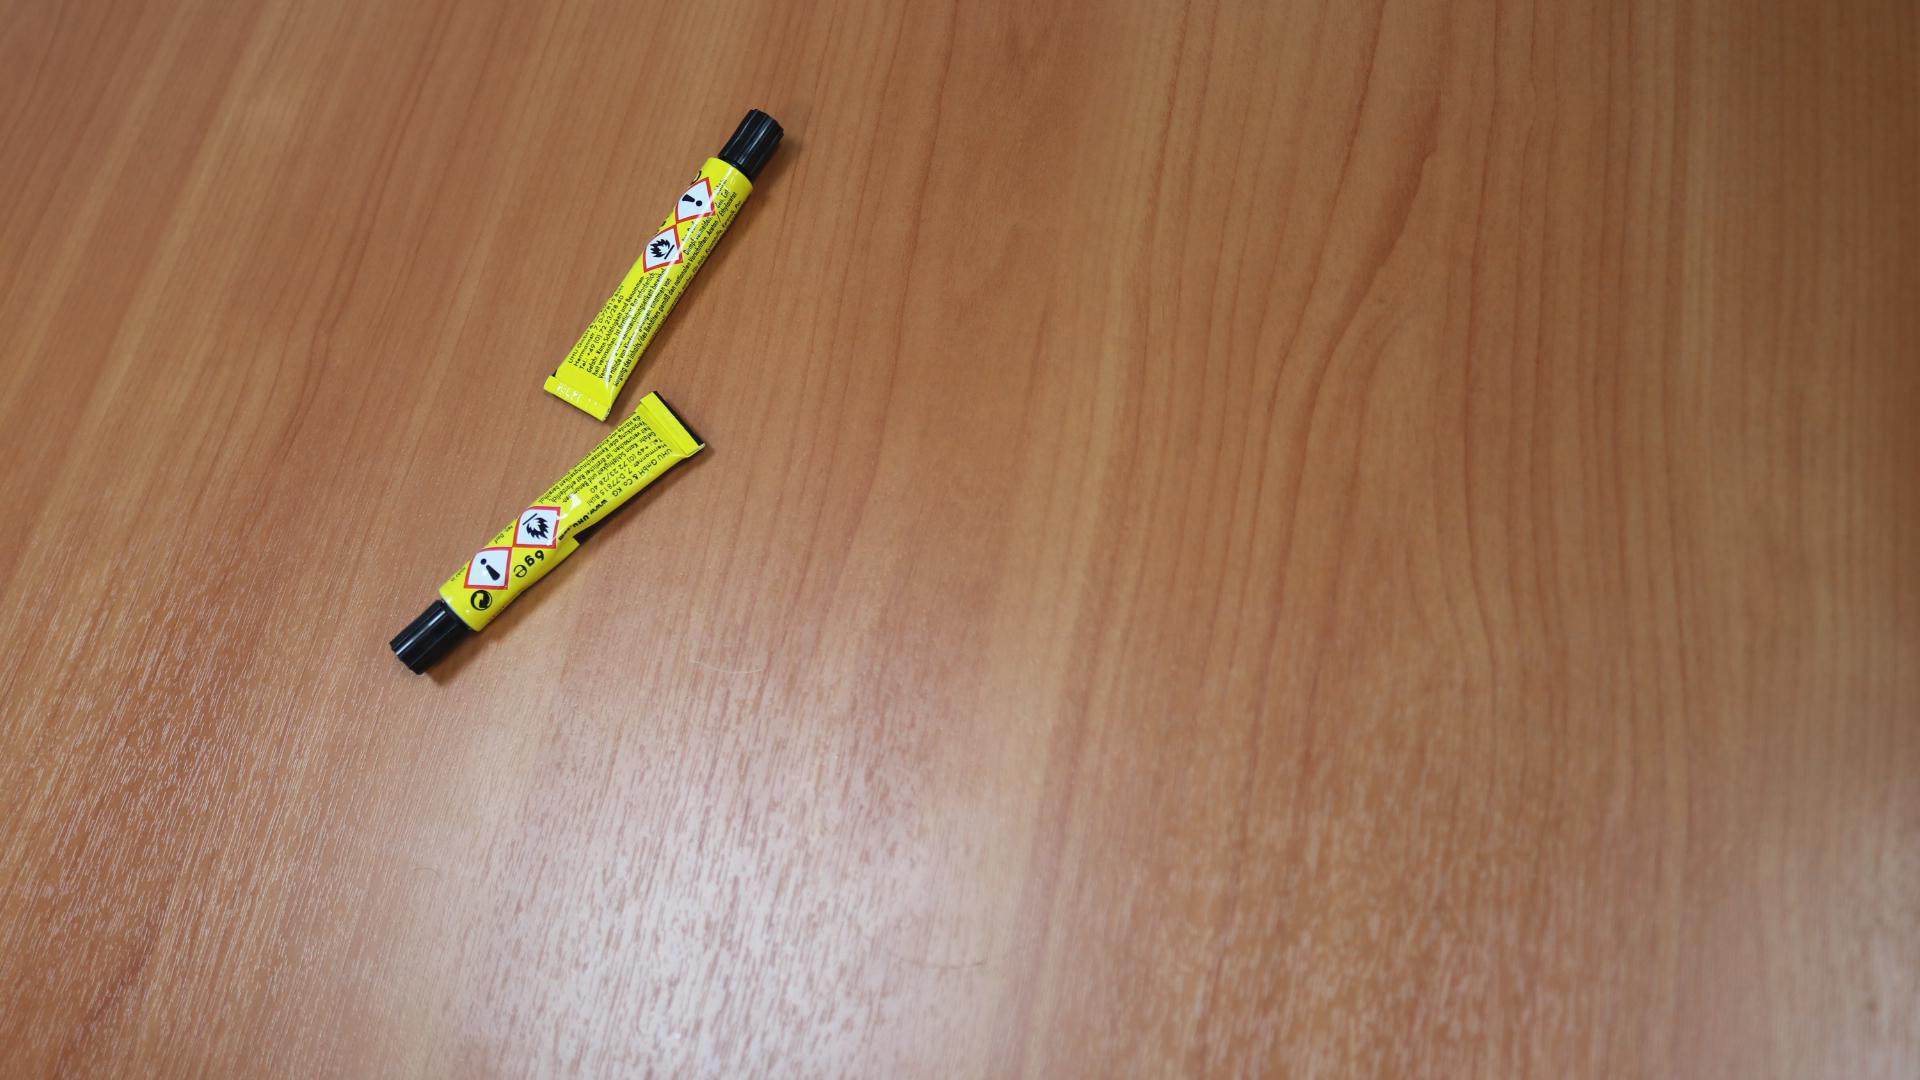Head: (750, 137, 760, 148), (423, 631, 432, 640)
Tail: (578, 386, 585, 392), (669, 423, 674, 429)
Tube: (390, 391, 707, 675), (543, 107, 787, 423)
